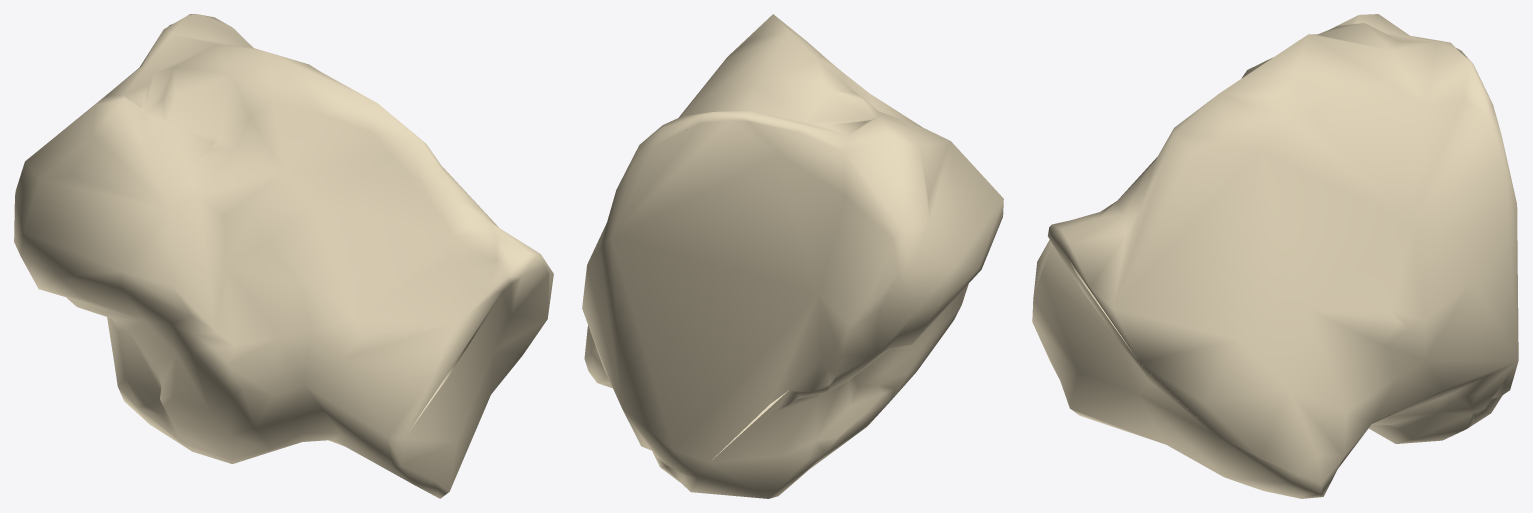
The model's file is esqueleto-cuboid-bone-l.glb.
The picture shows the model from 3 angles, left to right: view 1: azimuth 30°, elevation 25°; view 2: azimuth 150°, elevation 25°; view 3: azimuth 270°, elevation 25°; orthographic projection. The views are drawn at different scales.
Visible parts, largest first — view 1: Cuboid bone.l; view 2: Cuboid bone.l; view 3: Cuboid bone.l.
Part boxes in pixels (x1,y1,x2,y2): Cuboid bone.l: (14,14,553,498); Cuboid bone.l: (582,14,1003,498); Cuboid bone.l: (1032,14,1518,498).
Size of the model in its own units: 0.0322 by 0.0309 by 0.0342.
